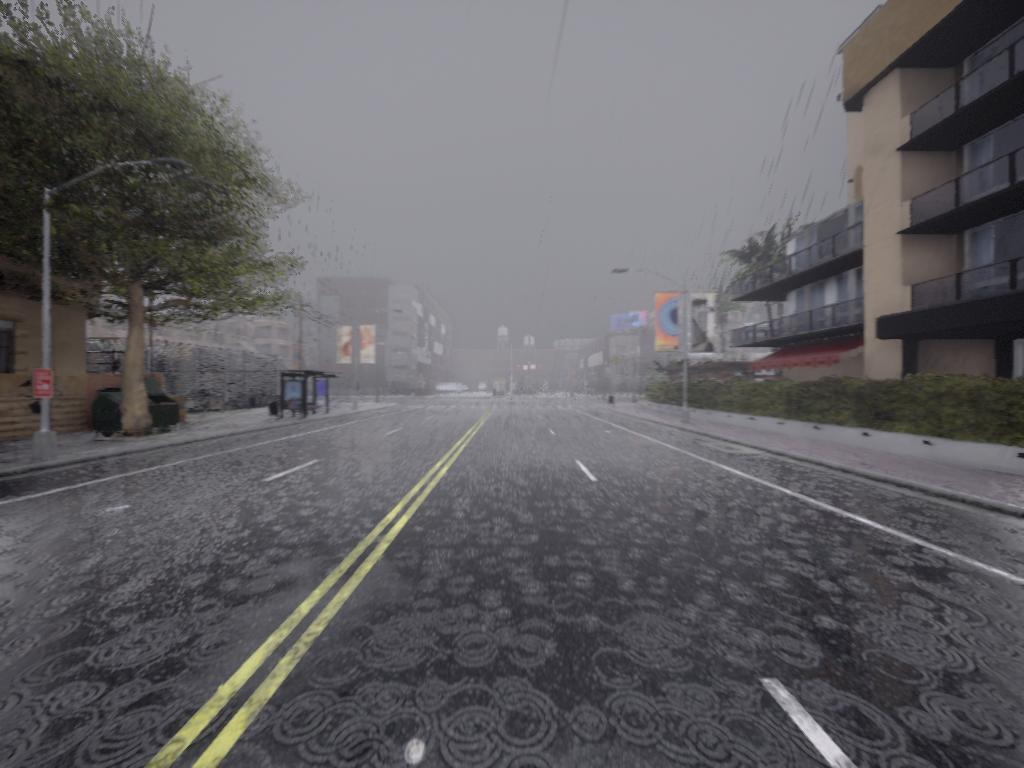traffic_light: (539, 365, 543, 374), (517, 366, 521, 375), (574, 372, 578, 380)
